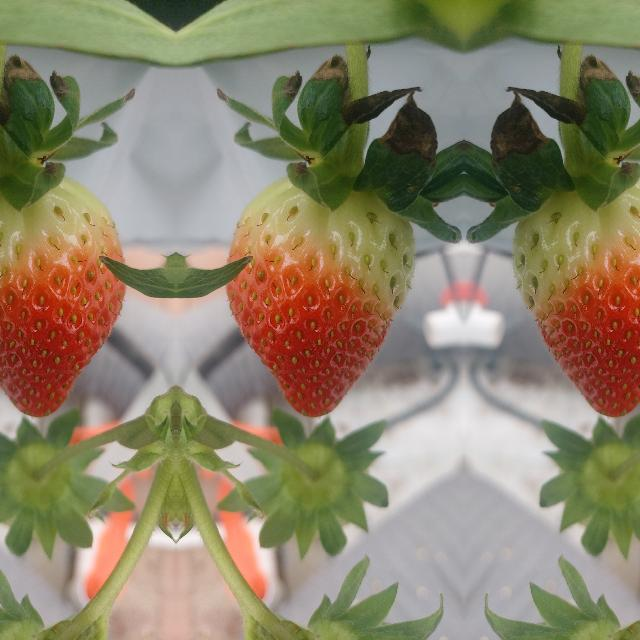Health_75: (226, 177, 414, 417), (511, 177, 640, 417), (0, 177, 124, 417)
